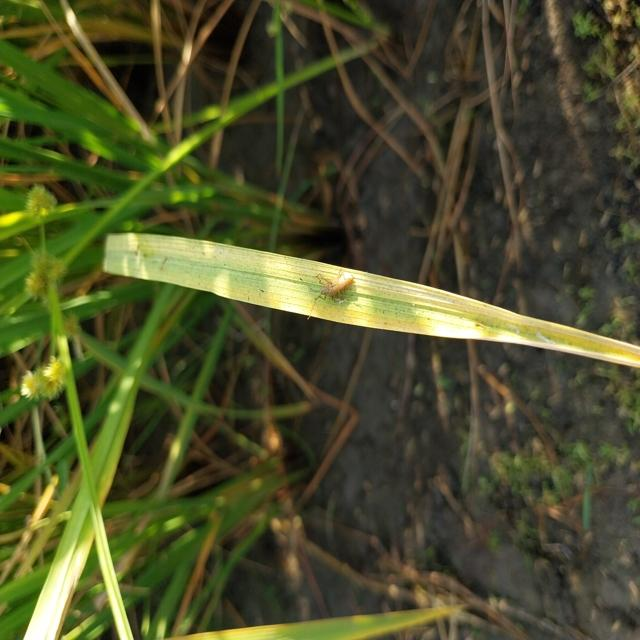healthy: (294, 266, 364, 320)
